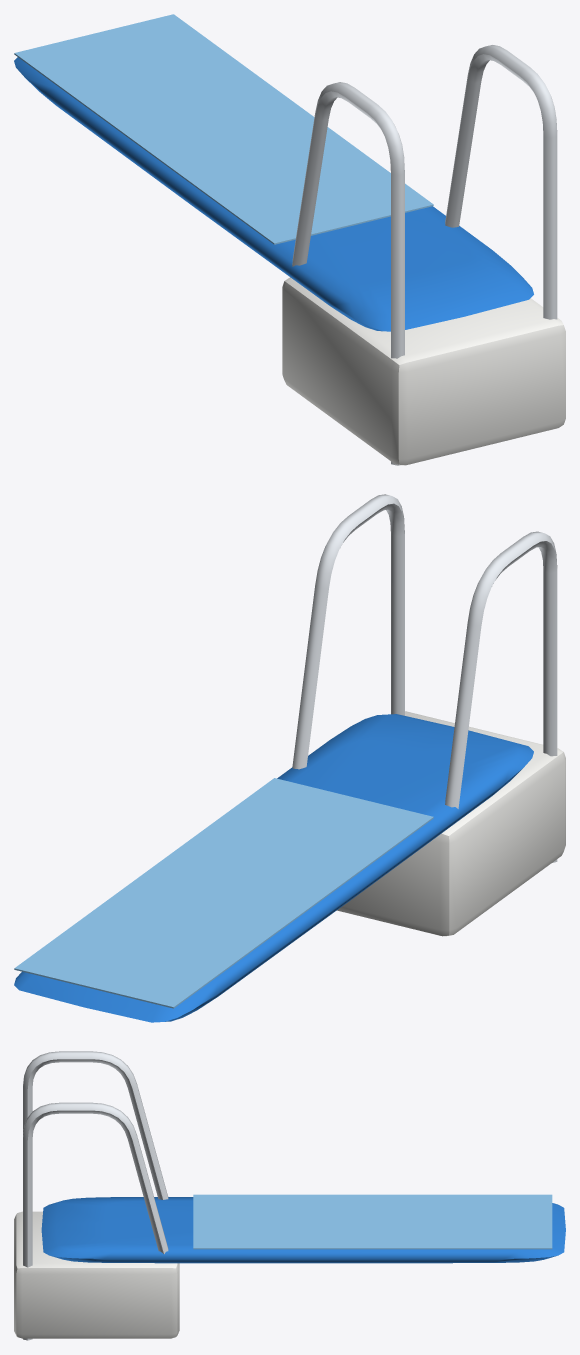
The model's file is piscina_trampolim.glb.
The picture shows the model from 3 angles, top to bottom: view 1: azimuth 30°, elevation 25°; view 2: azimuth 150°, elevation 25°; view 3: azimuth 270°, elevation 25°; orthographic projection. The views are drawn at different scales.
Parts seen in each view (by area): view 1: piscina_trampolim; view 2: piscina_trampolim; view 3: piscina_trampolim.
Boxes of the visible parts, box(x1,y1,x2,y2) form: piscina_trampolim: box(14, 14, 565, 465); piscina_trampolim: box(14, 494, 565, 1022); piscina_trampolim: box(14, 1051, 565, 1340).
Bounding box in the file's own units: 0.5 × 0.9373 × 2.
1 material, 1 textured.
